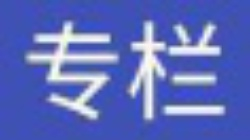TextView: (1, 1, 249, 139)
